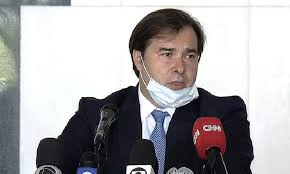mask_weared_incorrect: (129, 35, 203, 110)
